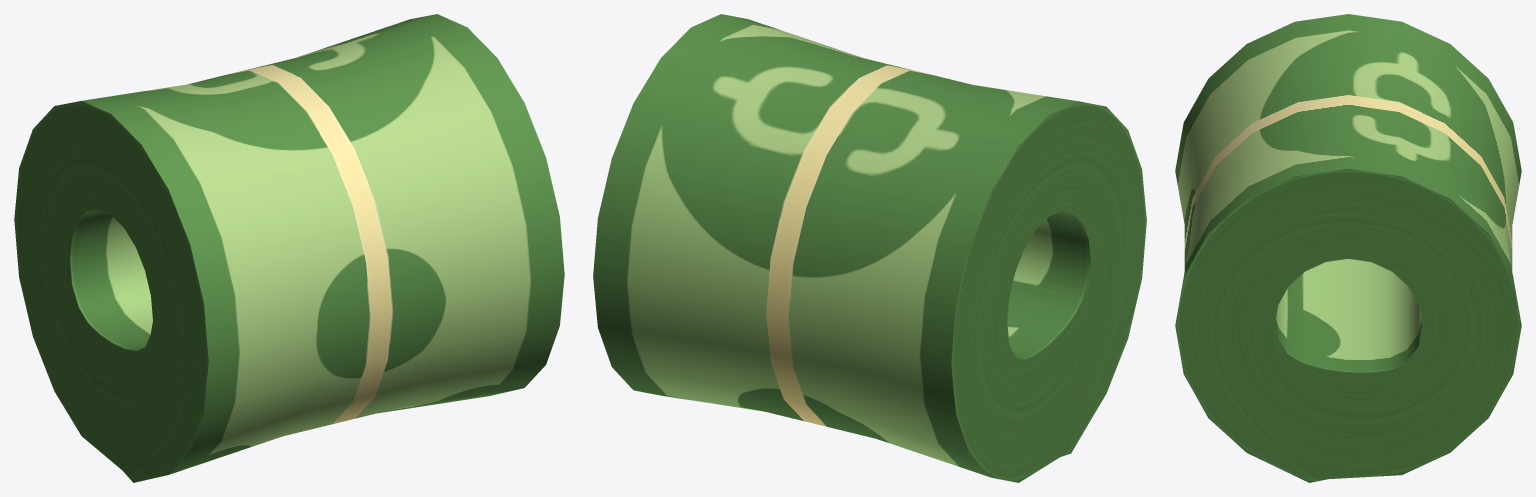
File: RollCash.FBX
3 views of the same model, side by side, from view 1: azimuth 30°, elevation 25°; view 2: azimuth 150°, elevation 25°; view 3: azimuth 270°, elevation 25° (orthographic). The views are drawn at different scales.
Parts seen in each view (by area): view 1: RollCash; view 2: RollCash; view 3: RollCash.
Part boxes in pixels (left/top/right/bottom): RollCash: left=14, top=14, right=564, bottom=482; RollCash: left=593, top=14, right=1146, bottom=482; RollCash: left=1175, top=14, right=1521, bottom=482.
Bounding box in the file's own units: 77.51 × 73.4 × 73.37.
1 material, 1 textured.
